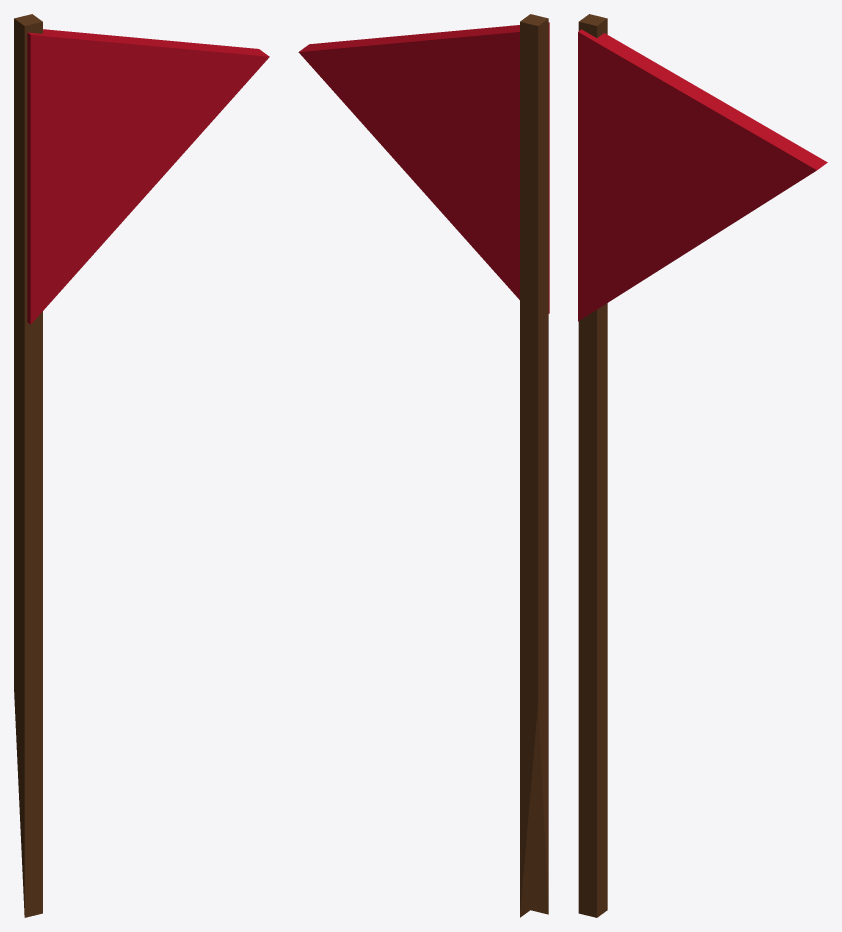
Rendered from SM_Fahne.fbx.
The picture shows the model from 3 angles, left to right: view 1: azimuth 30°, elevation 25°; view 2: azimuth 150°, elevation 25°; view 3: azimuth 330°, elevation 25°; orthographic projection.
Parts seen in each view (by area): view 1: Fahne.001; view 2: Fahne.001; view 3: Fahne.001.
Part boxes in pixels (x1=…): Fahne.001: x1=14, y1=14, x2=269, y2=917; Fahne.001: x1=298, y1=14, x2=549, y2=917; Fahne.001: x1=578, y1=14, x2=827, y2=917.
Bounding box in the file's own units: 54.36 × 192 × 5.45.
